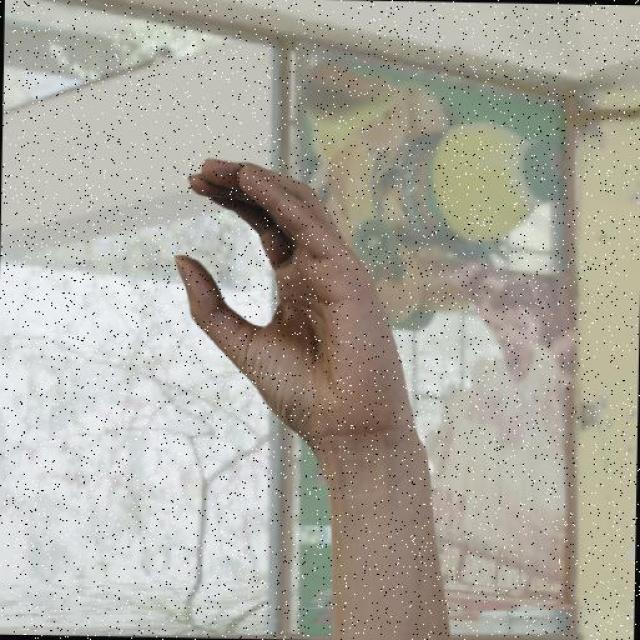C: (170, 153, 429, 446)
